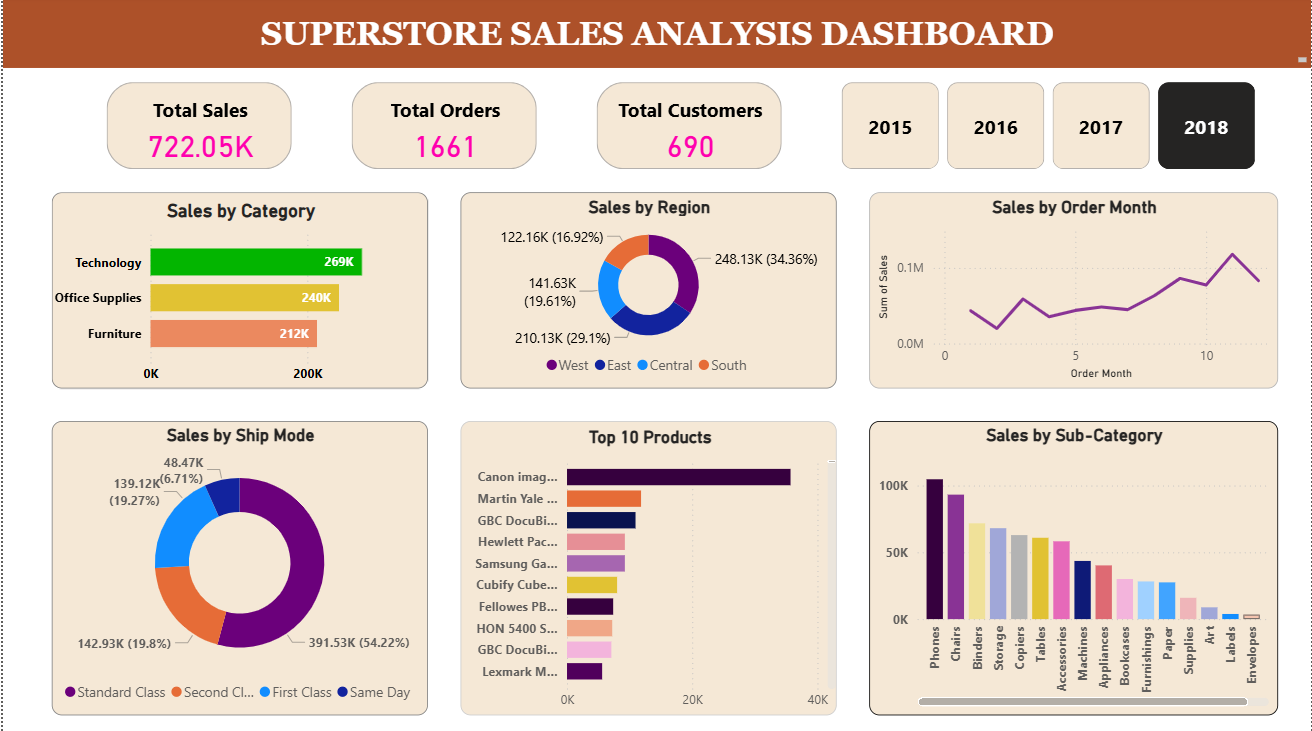

The dashboard page shown, as its layout file describes it:
{"tool":"powerbi","page":{"name":"Page 1","canvas":[1280,720],"ordinal":0},"visuals":[{"type":"advancedSlicerVisual","fields":{"Values":["sales_modified.Order Year"]},"box":[816,80,416,96],"z":0},{"type":"cardVisual","fields":{"Data":["Sum(sales_modified.Sales)"]},"box":[96,80,192,96],"z":1000},{"type":"textbox","title":"SUPERSTORE SALES ANALYSIS DASHBOARD","box":[0,0,1280,70],"z":2000},{"type":"cardVisual","fields":{"Data":["sales_modified.Total Orders"]},"box":[336,80,192,96],"z":2001},{"type":"cardVisual","fields":{"Data":["sales_modified.Total Customers"]},"box":[576,80,192,96],"z":2002},{"type":"barChart","title":"Sales by Category","fields":{"Category":["sales_modified.Category"],"Y":["Sum(sales_modified.Sales)"]},"box":[48,192,368,192],"z":2003},{"type":"donutChart","title":"Sales by Region","fields":{"Category":["sales_modified.Region"],"Y":["Sum(sales_modified.Sales)"]},"box":[448,192,368,192],"z":2004},{"type":"donutChart","title":"Sales by Ship Mode","fields":{"Category":["sales_modified.Ship Mode"],"Y":["Sum(sales_modified.Sales)"]},"box":[48,416,368,288],"z":2005},{"type":"barChart","title":"Top 10 Products","fields":{"Category":["sales_modified.Product Name"],"Y":["Sum(sales_modified.Sales)"]},"box":[448,416,368,288],"z":2006},{"type":"columnChart","title":"Sales by Sub-Category","fields":{"Category":["sales_modified.Sub-Category"],"Y":["Sum(sales_modified.Sales)"]},"box":[848,416,400,288],"z":2007},{"type":"lineChart","title":"Sales by Order Month","fields":{"Category":["sales_modified.Order Month"],"Y":["Sum(sales_modified.Sales)"]},"box":[848,192,400,192],"z":2008}]}

Visuals, with their boxes in screenshot pixels (x1, y1, x2, y2), scaled from the page's 1280x720 canvas onto the 1312x731 screenshot:
advancedSlicerVisual - sales_modified.Order Year: bbox=(836, 81, 1263, 179)
cardVisual - Sum(sales_modified.Sales): bbox=(98, 81, 295, 179)
"SUPERSTORE SALES ANALYSIS DASHBOARD" textbox: bbox=(0, 0, 1311, 71)
cardVisual - sales_modified.Total Orders: bbox=(344, 81, 541, 179)
cardVisual - sales_modified.Total Customers: bbox=(590, 81, 787, 179)
"Sales by Category" barChart: bbox=(49, 195, 426, 390)
"Sales by Region" donutChart: bbox=(459, 195, 836, 390)
"Sales by Ship Mode" donutChart: bbox=(49, 422, 426, 715)
"Top 10 Products" barChart: bbox=(459, 422, 836, 715)
"Sales by Sub-Category" columnChart: bbox=(869, 422, 1279, 715)
"Sales by Order Month" lineChart: bbox=(869, 195, 1279, 390)
